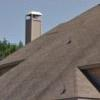Chimney: (16, 5, 48, 41)
